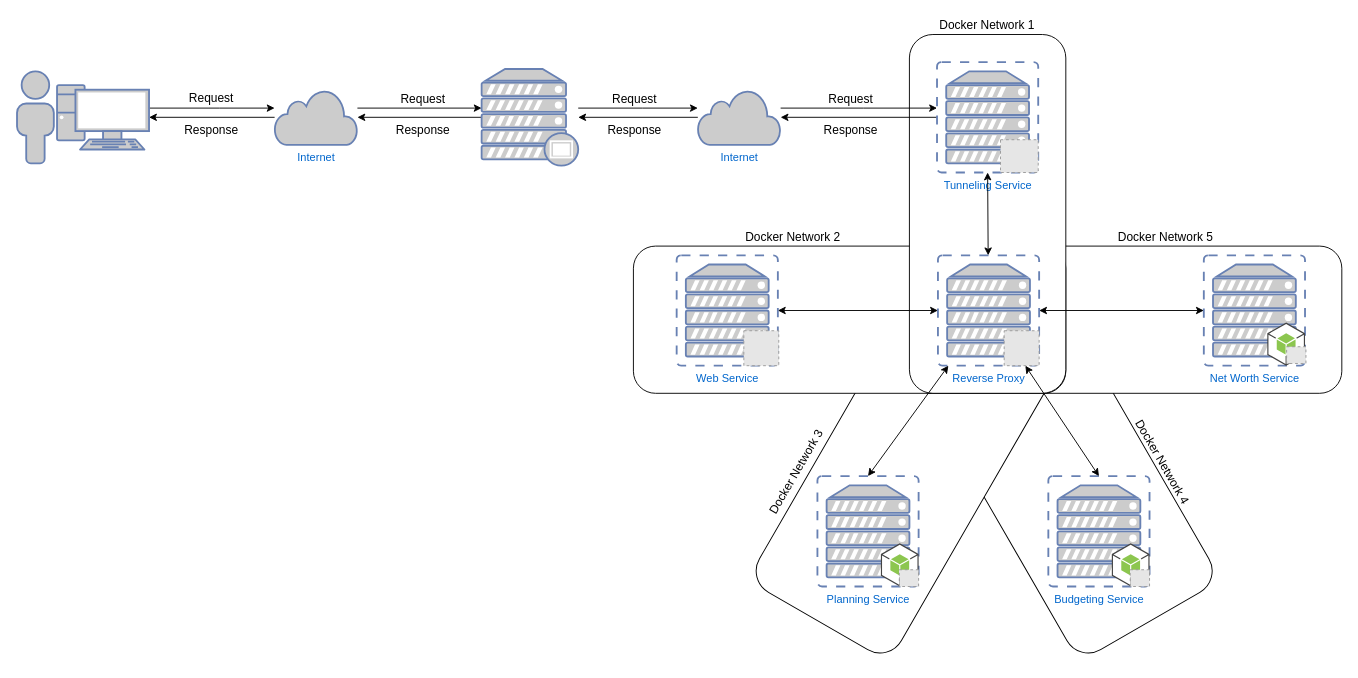
This 1358x678 diagram has some shape labels left out. Grey dashed boxes stand in for pictures. Here are the shapes that lost their labels. From the top down, the centre of each, then its label:
At pixel 35 117: "User".
At pixel 103 117: "YggFinance Web App".
At pixel 529 117: "LocalTunnel Proxy Server".
